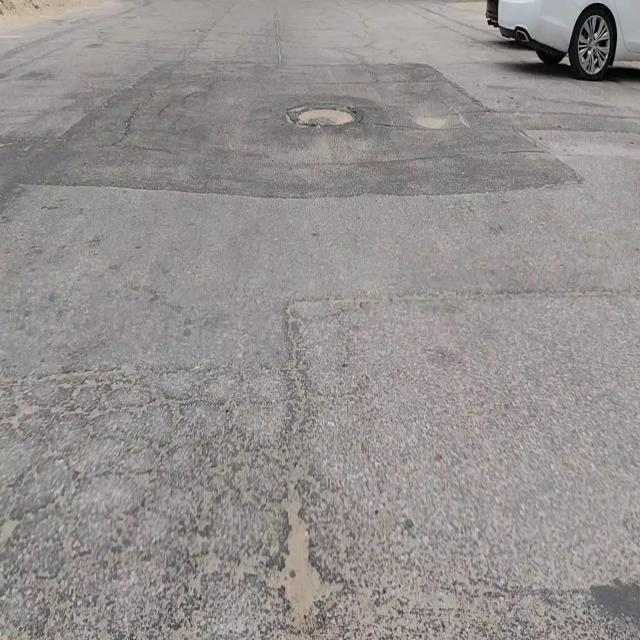Potholes: (289, 103, 363, 129)
